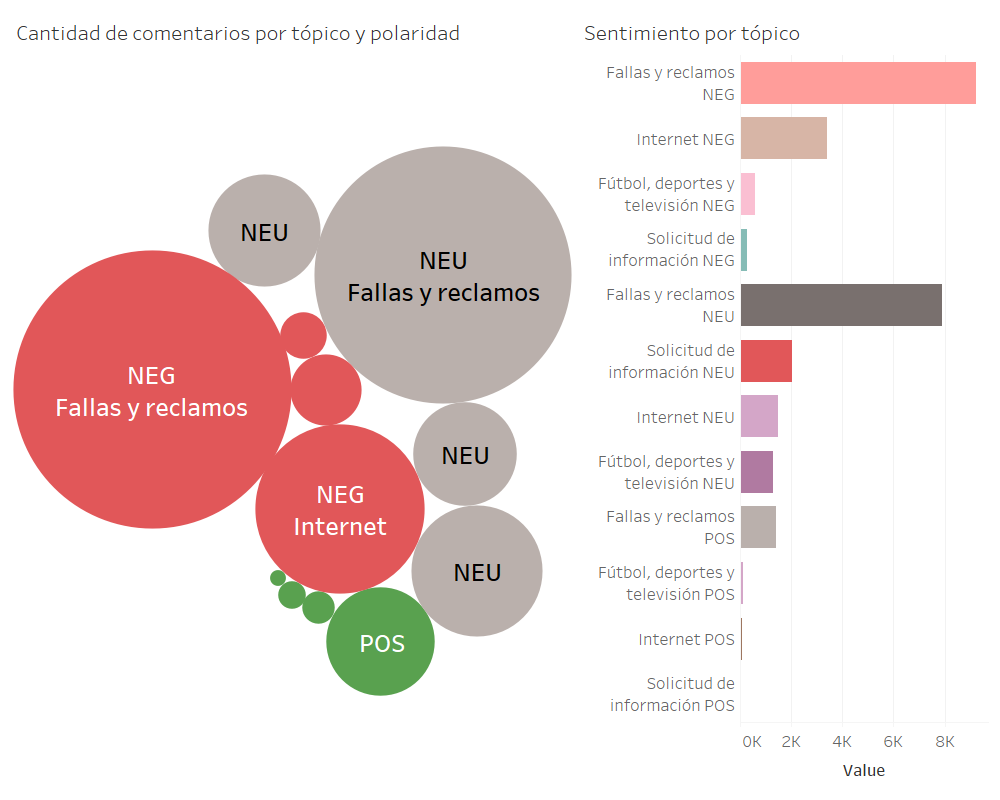

This screenshot's page, from the dashboard's own definition file:
{"tool":"tableau","page":{"name":"Cantidad de comentarios por tópico y polaridad Dashboard","canvas":[1000,800],"ordinal":0},"visuals":[{"type":"worksheet","title":"Cantidad de comentarios por tópico y polaridad","mark":"Circle","box":[8,8,568,784]},{"type":"worksheet","title":"Sentimiento por tópico","mark":"Automatic","box":[576,8,416,784]}]}

Visuals, with their boxes in screenshot pixels (x1, y1, x2, y2), scaled from the page's 1000x800 canvas onto the 1000x800 screenshot:
"Cantidad de comentarios por tópico y polaridad" worksheet (Circle marks): [left=8, top=8, right=576, bottom=792]
"Sentimiento por tópico" worksheet: [left=576, top=8, right=992, bottom=792]
